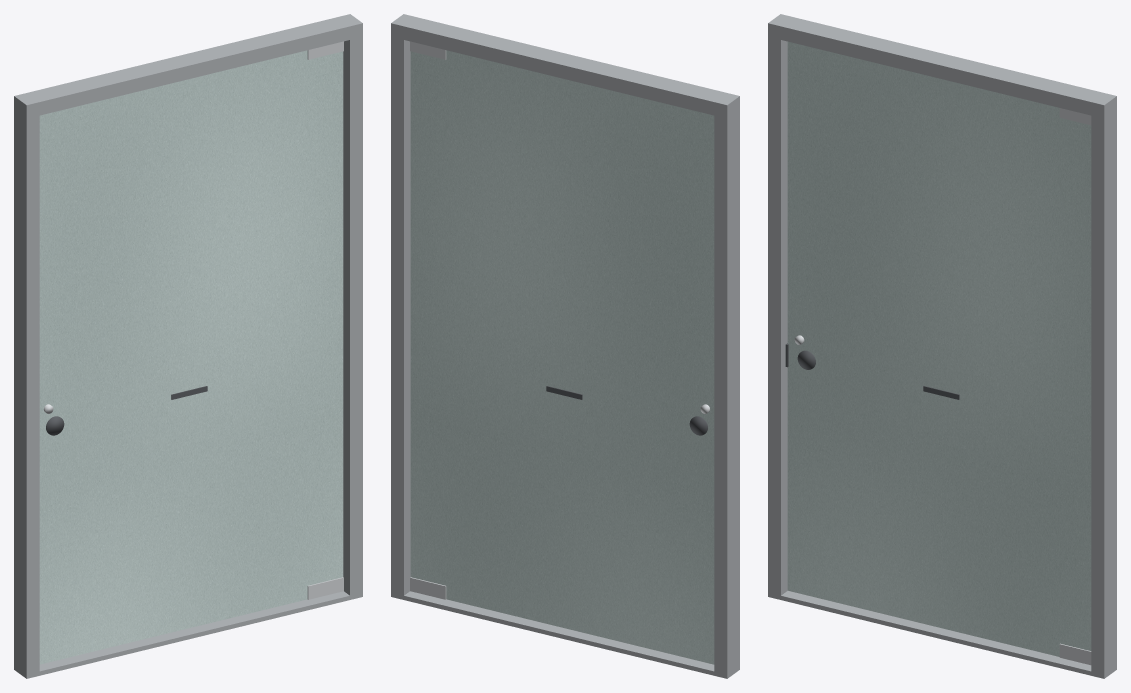
Rendered from puerta_sala_profesores.glb.
3 views of the same model, side by side, from view 1: azimuth 30°, elevation 25°; view 2: azimuth 150°, elevation 25°; view 3: azimuth 330°, elevation 25° (orthographic).
Visible parts, largest first — view 1: Vidrio_Blindex_Esmerilado, Marco_Y_Herrajes; view 2: Vidrio_Blindex_Esmerilado, Marco_Y_Herrajes; view 3: Vidrio_Blindex_Esmerilado, Marco_Y_Herrajes.
Part boxes in pixels (box(x1,y1,x2,y2)): Vidrio_Blindex_Esmerilado: box(39, 50, 343, 664); Marco_Y_Herrajes: box(14, 14, 362, 678); Vidrio_Blindex_Esmerilado: box(410, 50, 714, 664); Marco_Y_Herrajes: box(391, 14, 739, 678); Vidrio_Blindex_Esmerilado: box(787, 41, 1091, 656); Marco_Y_Herrajes: box(768, 14, 1116, 678).
Bounding box in the file's own units: 1.46 × 2.38 × 0.095.
Materials: 4 (1 with a texture image).
